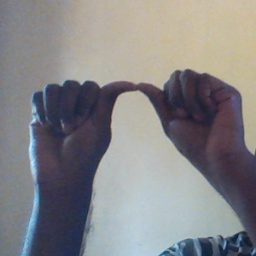A: (26, 68, 253, 193)
